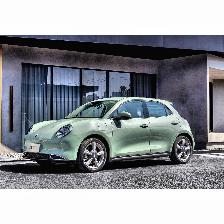EV: (23, 97, 197, 173)
